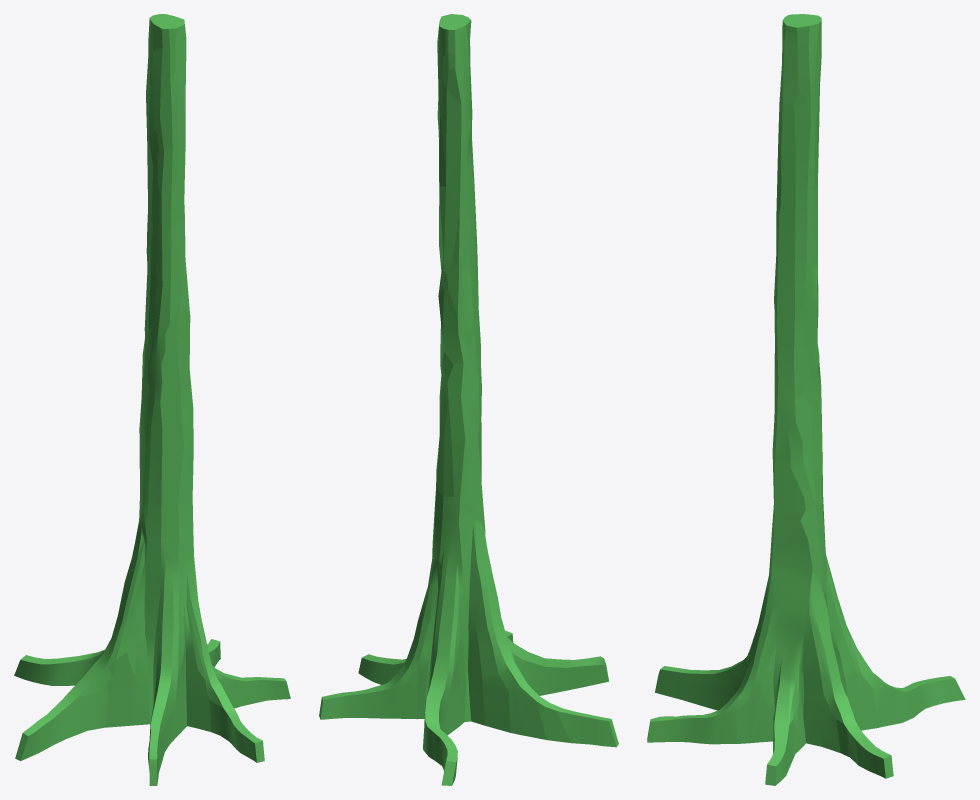
Rendered from jungle_big_tree_B.fbx.
3 views of the same model, side by side, from view 1: azimuth 30°, elevation 25°; view 2: azimuth 150°, elevation 25°; view 3: azimuth 270°, elevation 25° (orthographic). The views are drawn at different scales.
Visible parts, largest first — view 1: jungle_big_tree_B; view 2: jungle_big_tree_B; view 3: jungle_big_tree_B.
Boxes of the visible parts, x1,y1,x2,y2 form: jungle_big_tree_B: (14,14,290,785); jungle_big_tree_B: (319,14,618,785); jungle_big_tree_B: (647,14,965,785).
Bounding box in the file's own units: 373 × 930 × 375.
